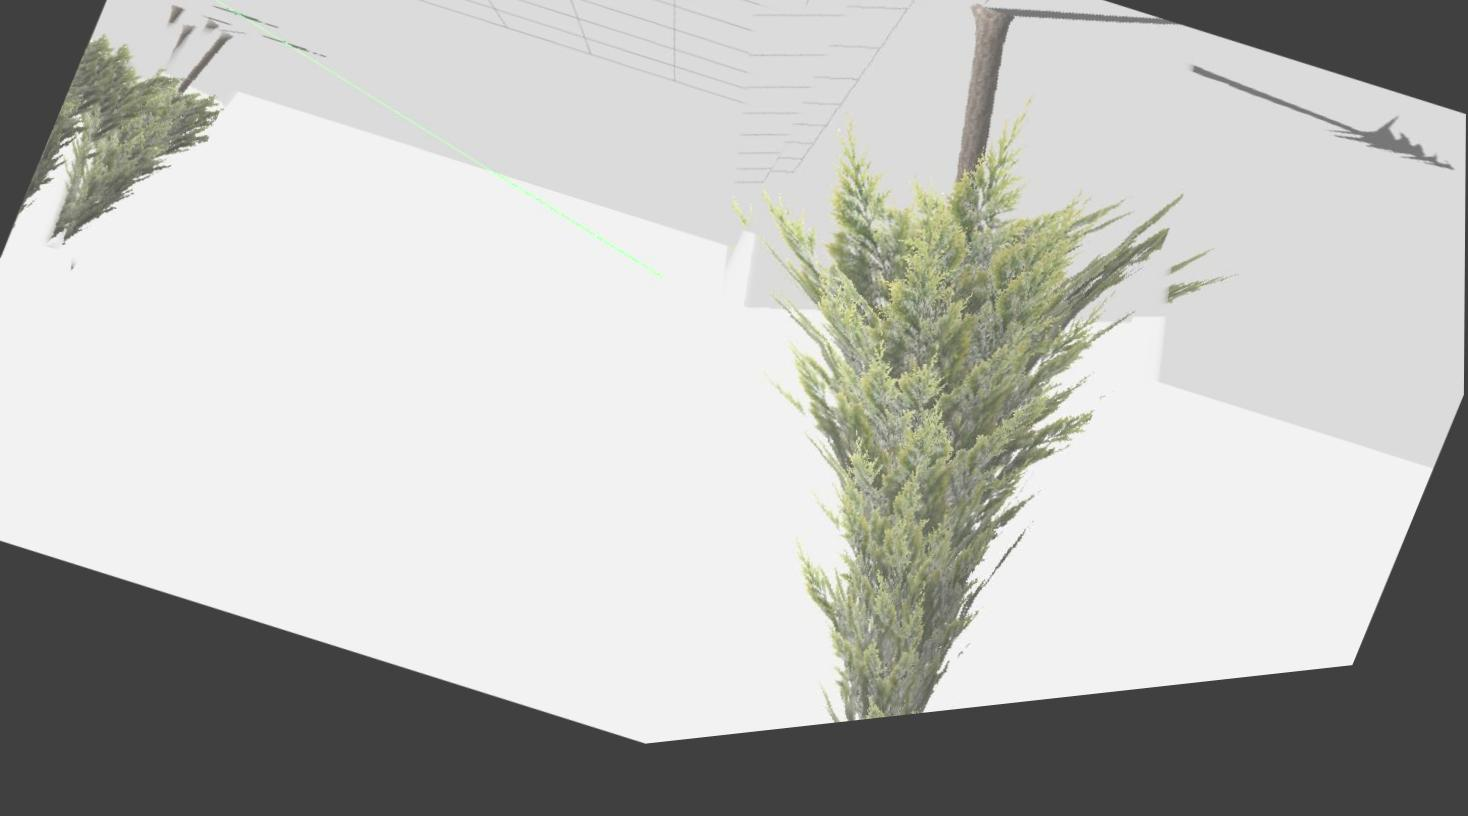tree_gazebo: (754, 25, 1177, 743), (40, 30, 230, 248), (14, 39, 119, 224)
